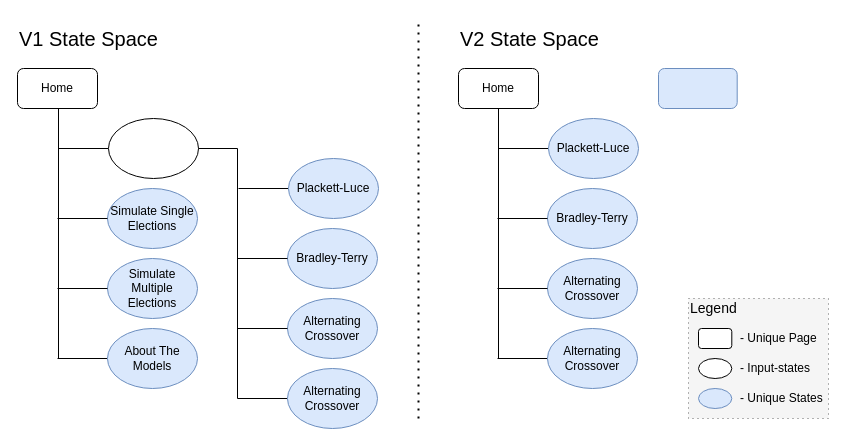
Image size: 846x446. Some labels were removed from this diagram. Each missing label, with the centre of its shape:
"About" belongs at (x=697, y=88).
"Model Inputs" belongs at (x=153, y=148).
